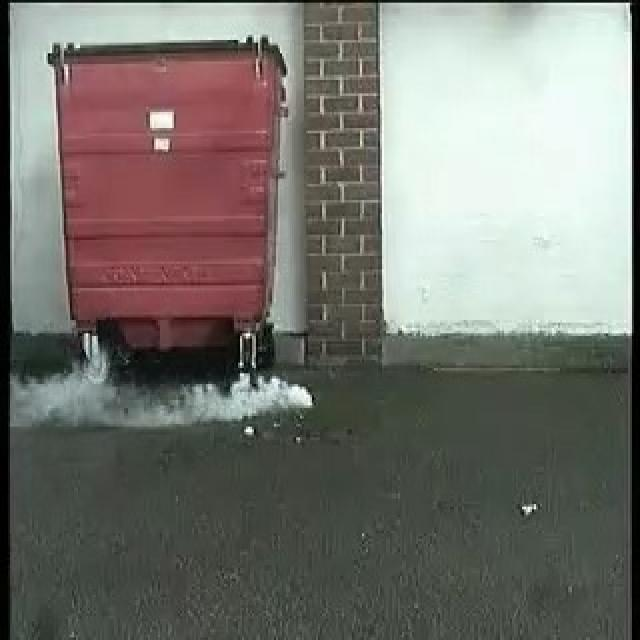smoke: (52, 358, 318, 428)
